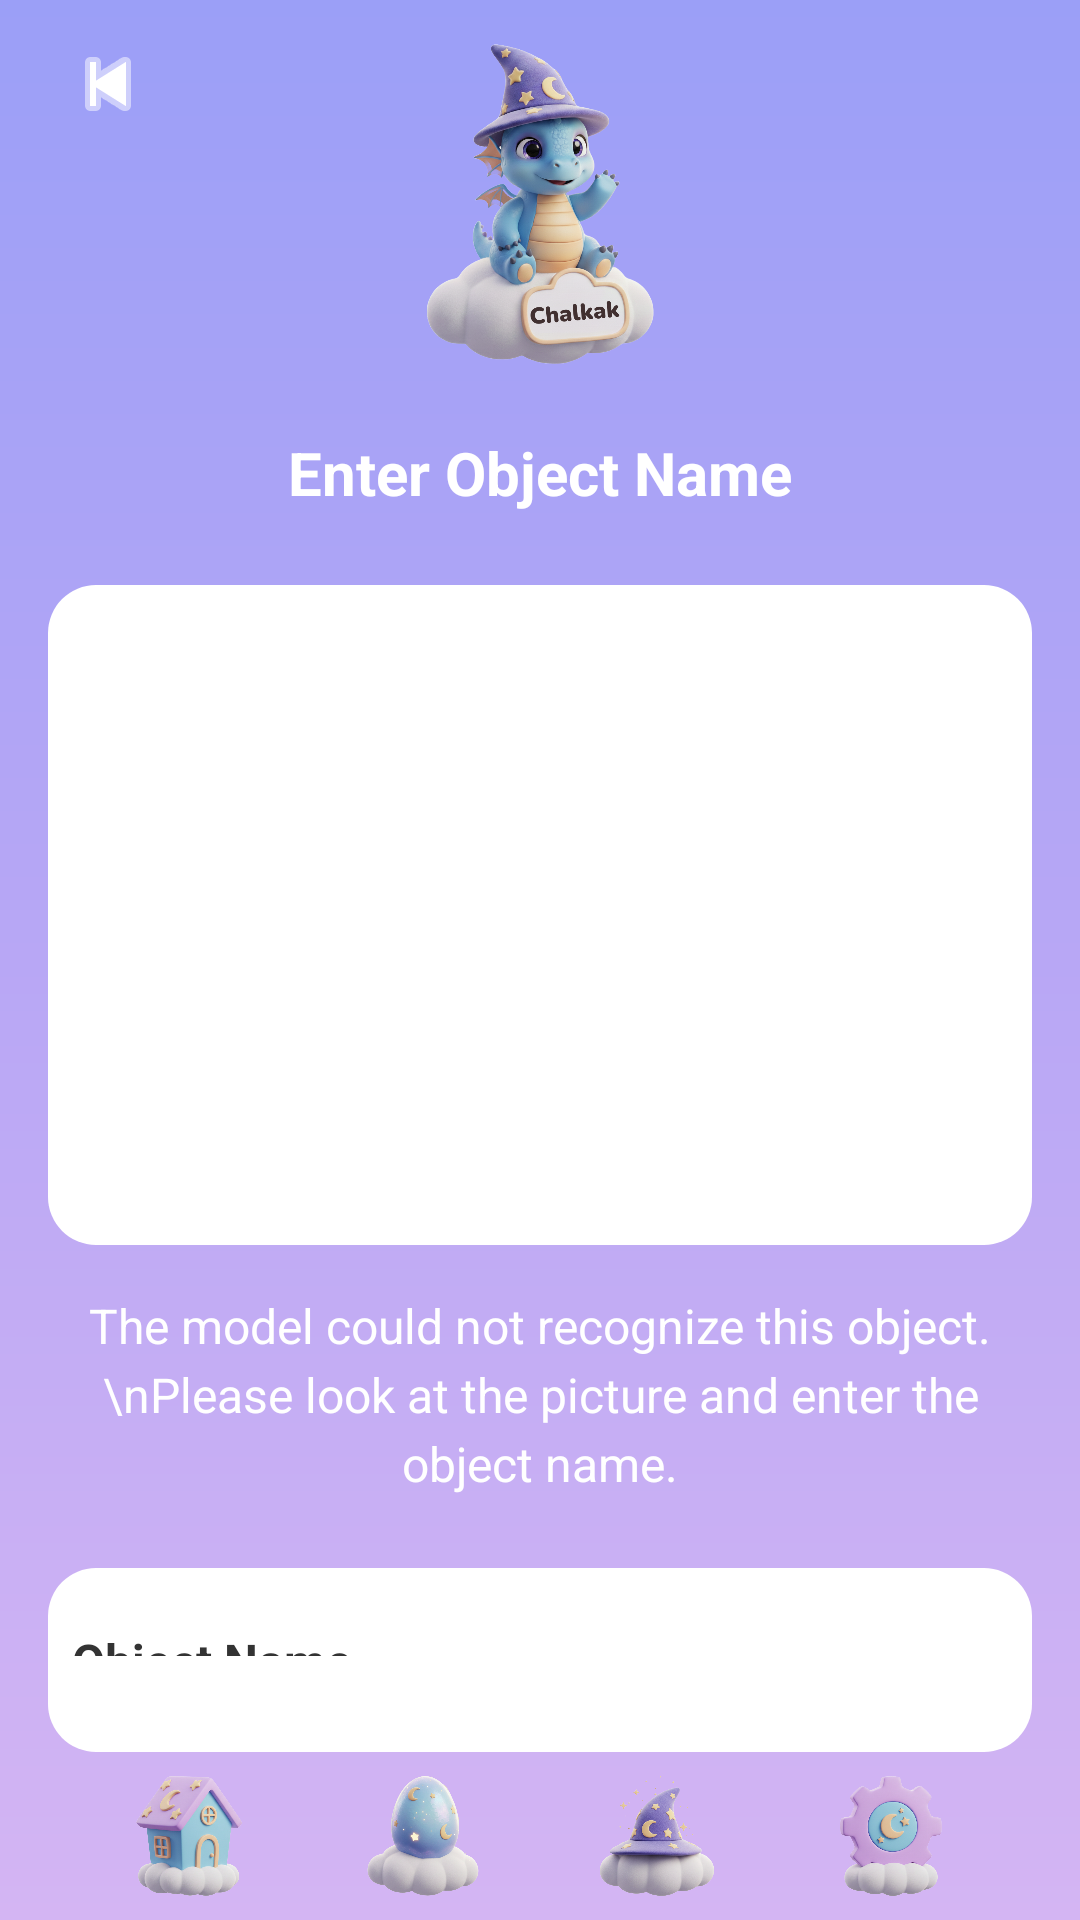

Named icons in this screenshot (1080×1920) and their bounding boxes, [left=x1, top=y1, right=x2, bottom=y2]:
Back: [left=85, top=57, right=131, bottom=111]
egg: [left=368, top=1776, right=478, bottom=1896]
hat: [left=600, top=1776, right=714, bottom=1896]
home: [left=136, top=1776, right=240, bottom=1896]
Mascot: [left=427, top=44, right=654, bottom=364]
setting: [left=840, top=1776, right=940, bottom=1896]
